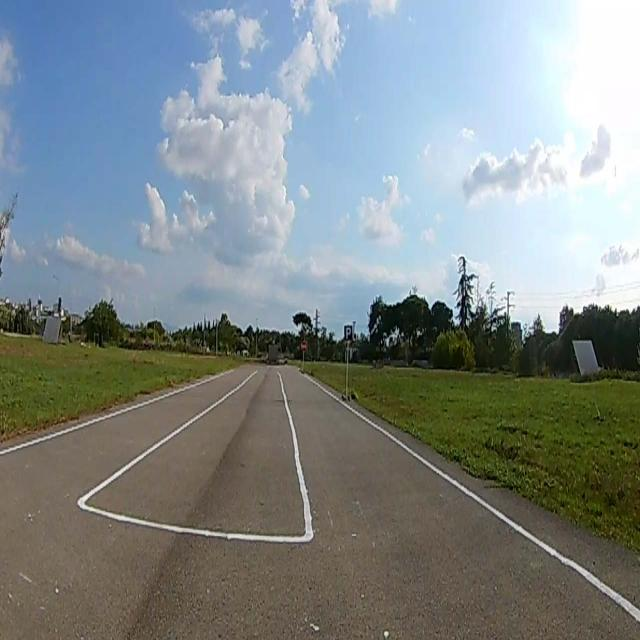park: (344, 326, 352, 340)
